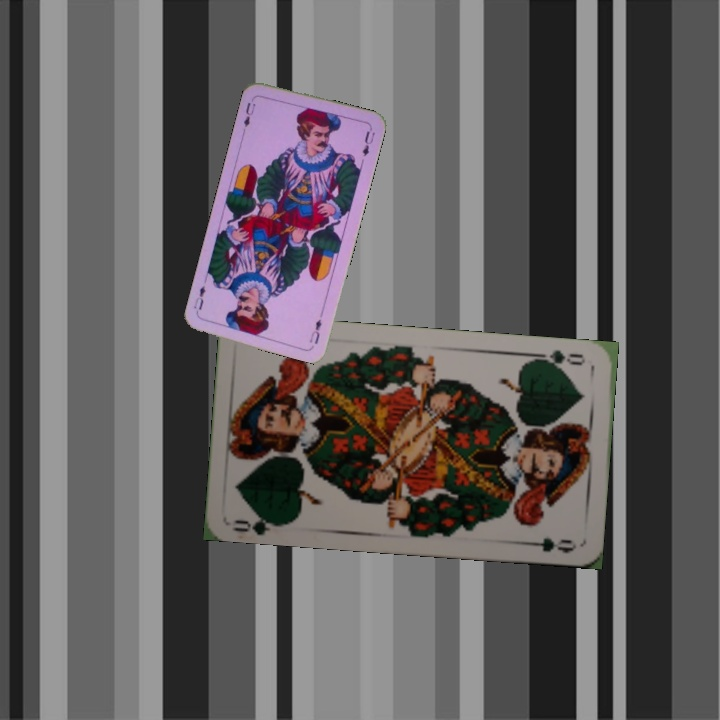EU: (239, 98, 258, 130), (305, 315, 324, 347)
GO: (229, 508, 288, 536), (532, 346, 588, 372)
